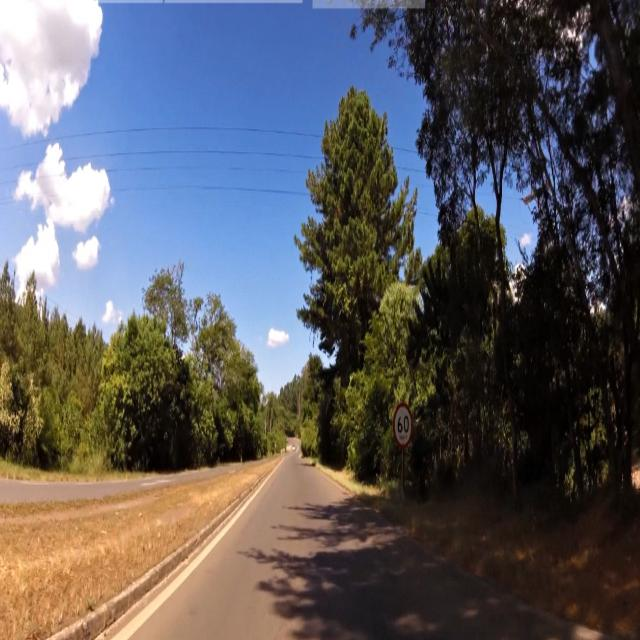R-19: (392, 406, 414, 450)
